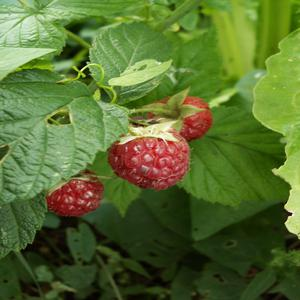raspb: (104, 127, 196, 192)
